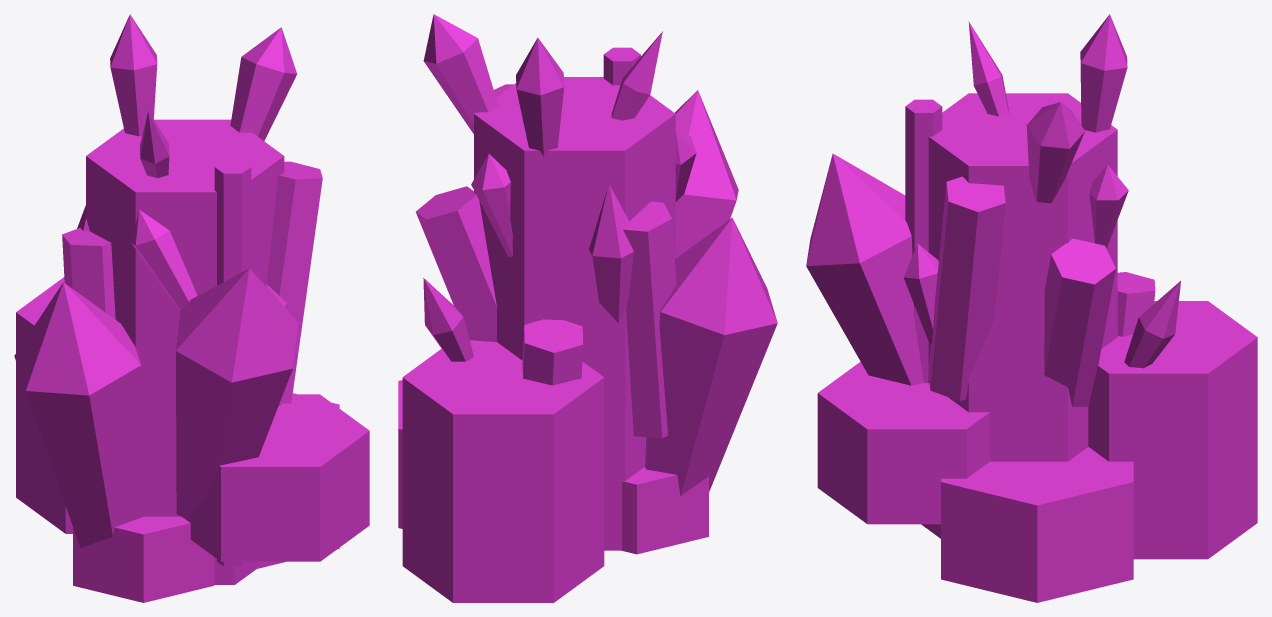
Rendered from Crystal Chunk 5.fbx.
3 renders of one model, left to right at view 1: azimuth 30°, elevation 25°; view 2: azimuth 150°, elevation 25°; view 3: azimuth 270°, elevation 25°, orthographic.
Parts seen in each view (by area): view 1: Crystal Chunk 5; view 2: Crystal Chunk 5; view 3: Crystal Chunk 5.
Part boxes in pixels (x1=…): Crystal Chunk 5: x1=14, y1=14, x2=369, y2=602; Crystal Chunk 5: x1=398, y1=14, x2=777, y2=602; Crystal Chunk 5: x1=806, y1=14, x2=1257, y2=602.
Size of the model in its own units: 400 by 561 by 455.
